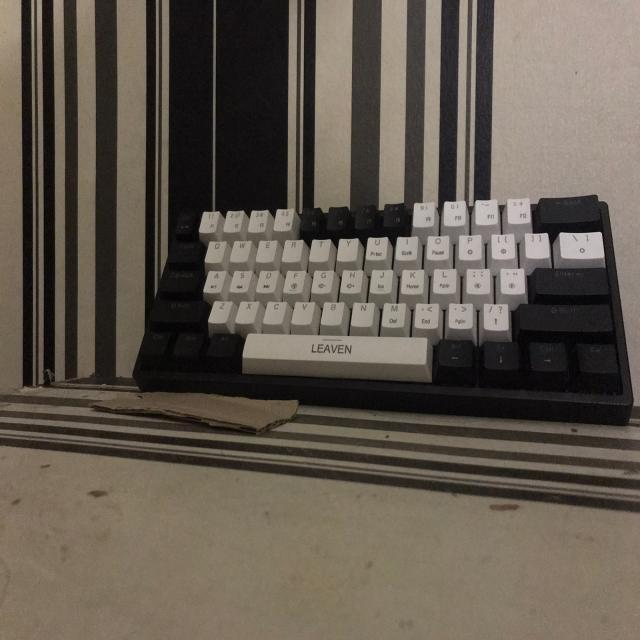-mouse-: (132, 197, 633, 412)
